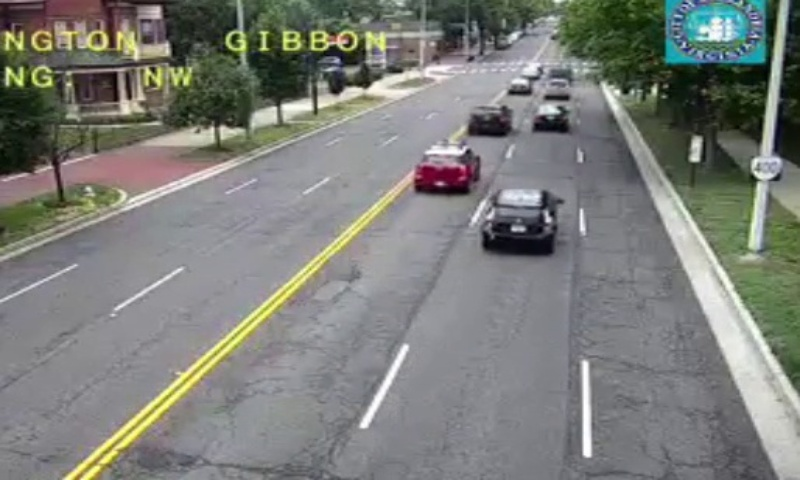car: (482, 189, 557, 244), (414, 146, 479, 189), (471, 105, 510, 133), (532, 104, 568, 130)
